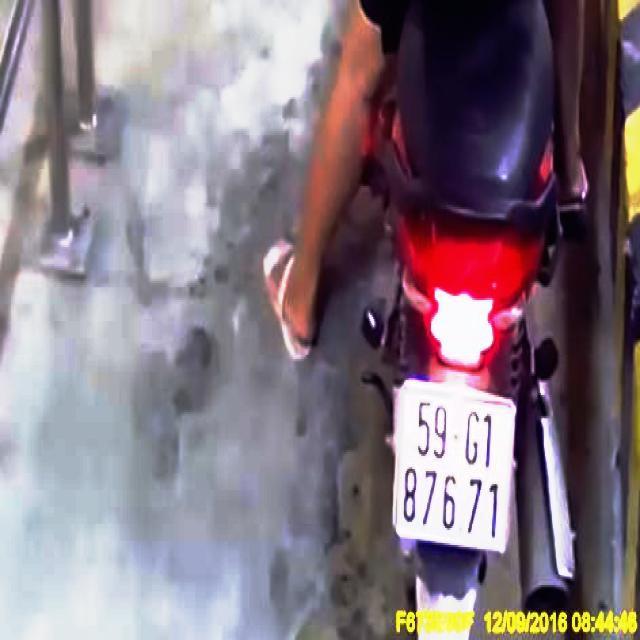license_plate: (395, 383, 517, 558)
